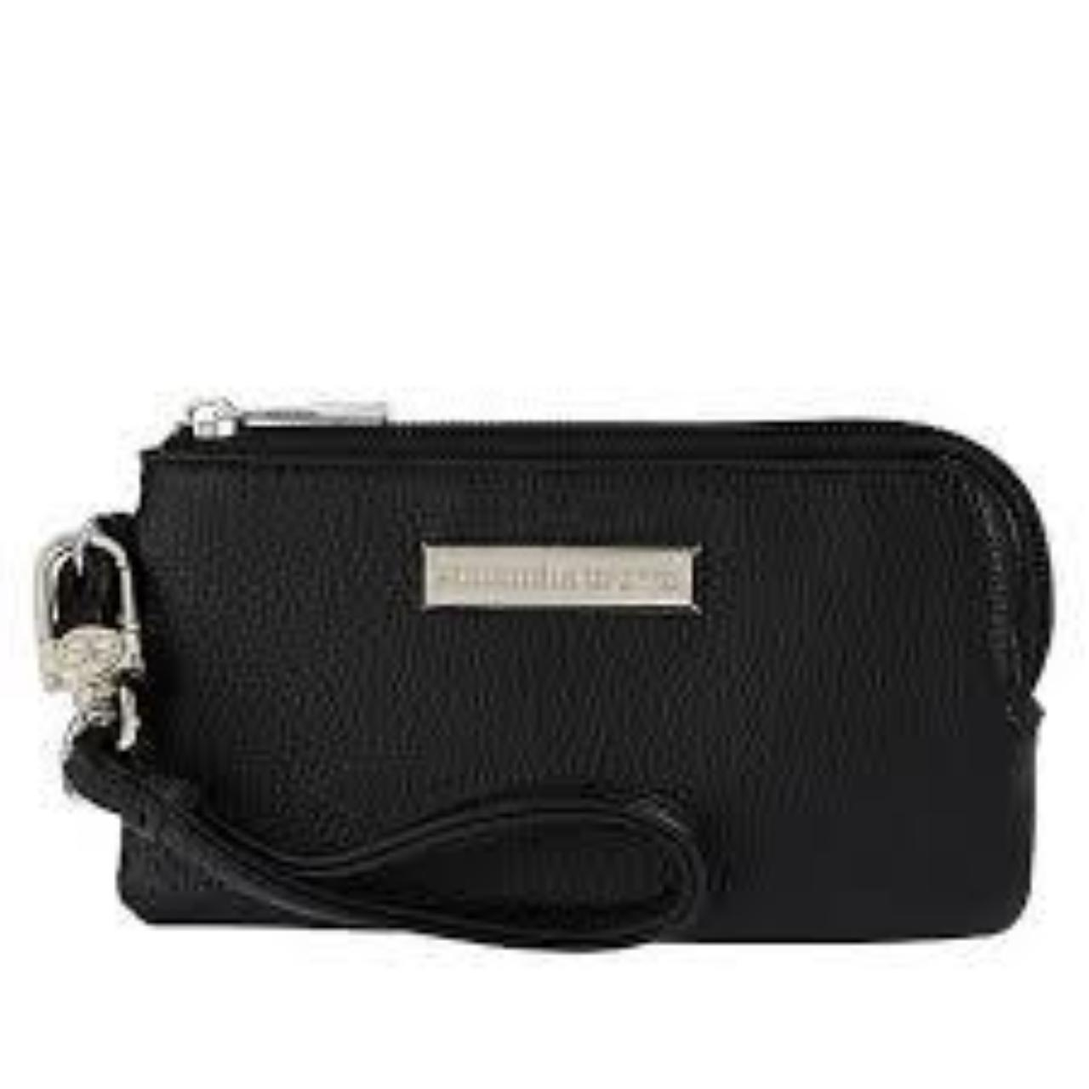wallet: (131, 441, 1026, 963)
